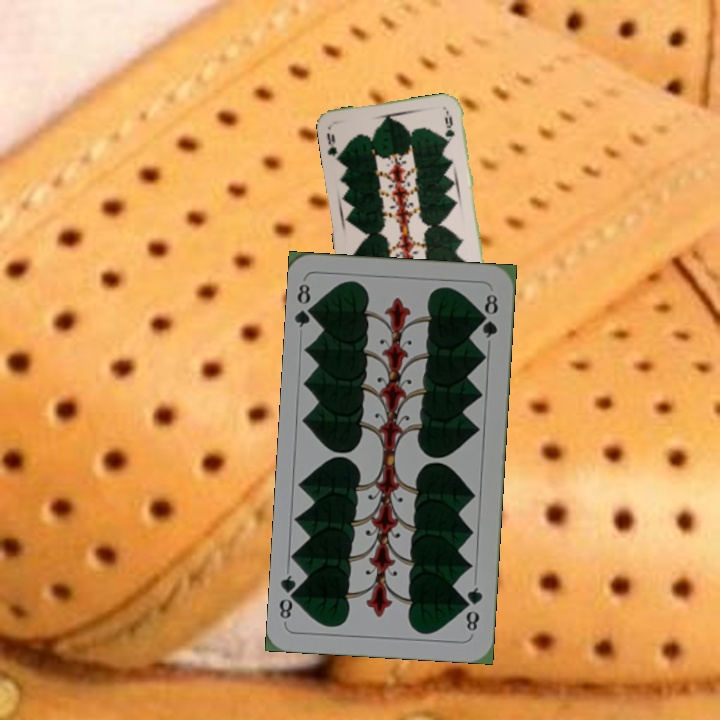G8: (291, 277, 320, 330), (460, 583, 485, 634)
G9: (323, 129, 343, 164)
